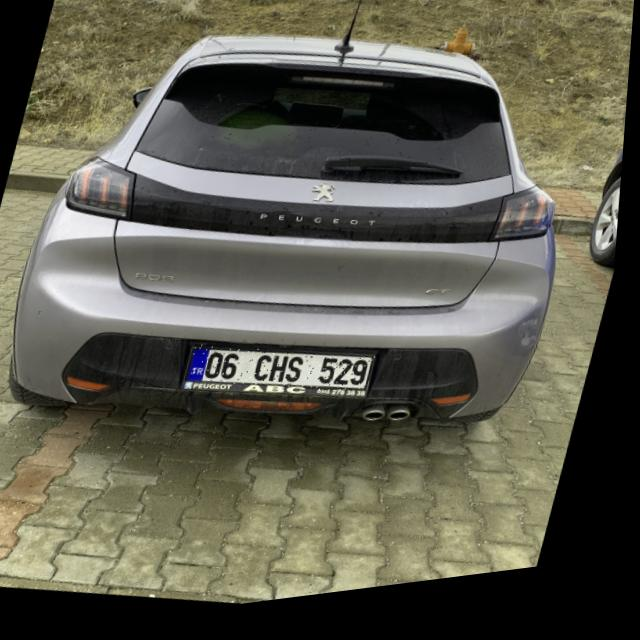license_plate: (190, 332, 383, 422)
